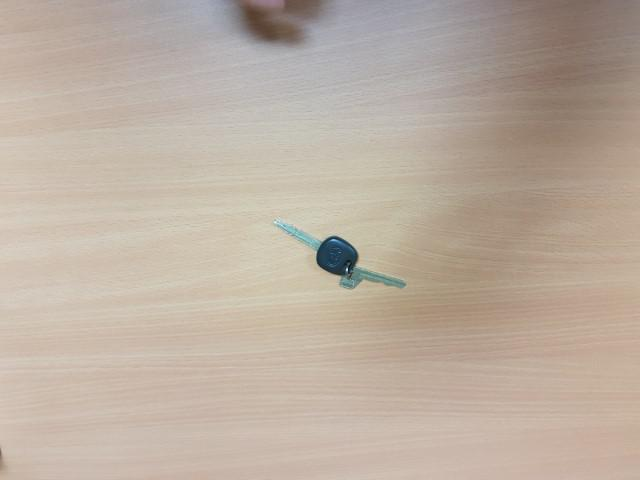key: (274, 217, 359, 274)
